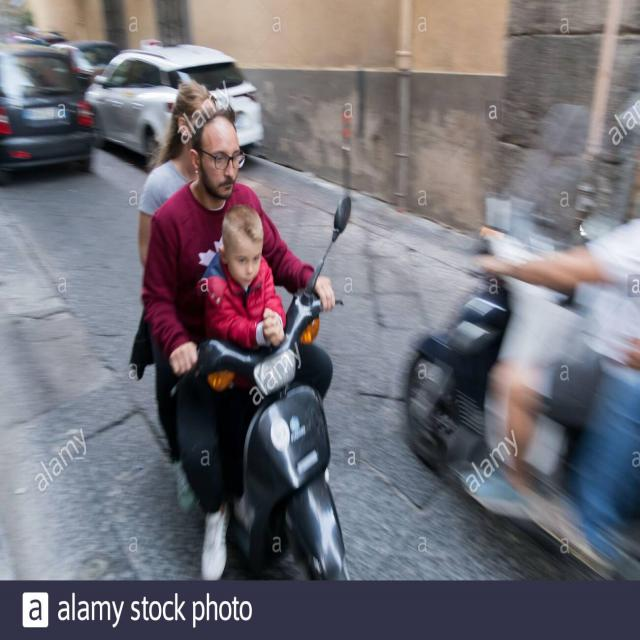Not Wearing Helmet: (174, 97, 254, 211)
Triple Riding: (74, 63, 300, 526)
